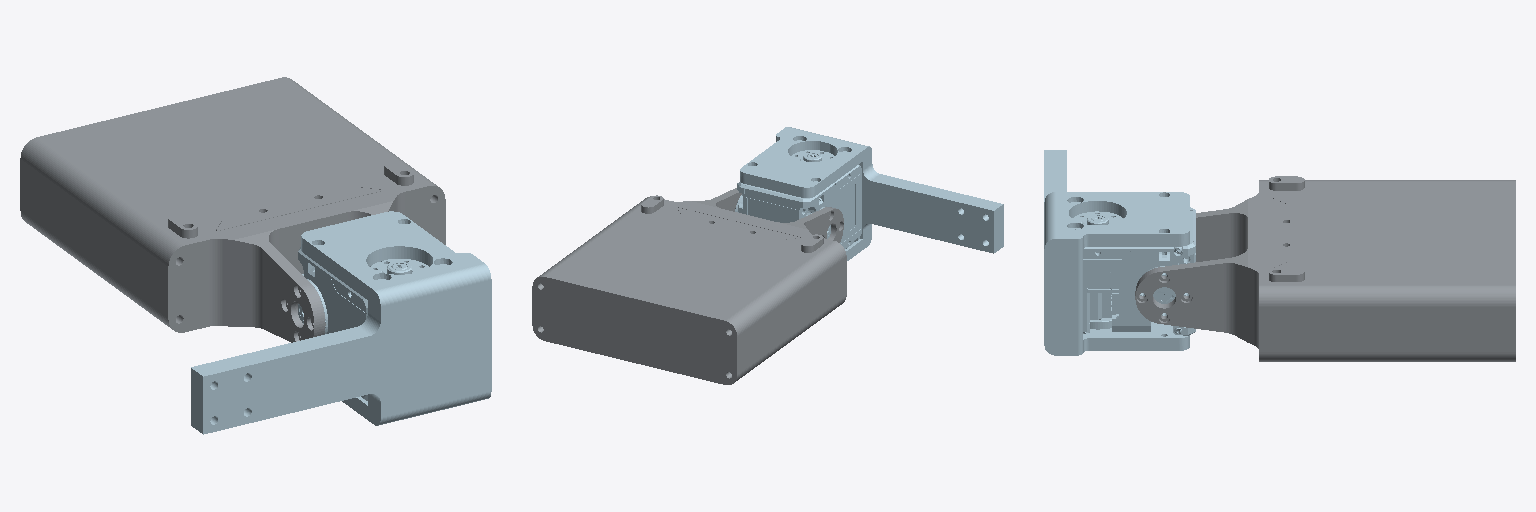
The robot description file, URDF, robot "sysID_2XL430":
<?xml version="1.0" ?>
<robot name="sysID_2XL430">
  <mujoco>
    <compiler strippath="false" balanceinertia="true" discardvisual="false"/>
  </mujoco>
  <link name="2xl430">
    <visual>
      <origin xyz="0 0 0" rpy="0 -0 0"/>
      <geometry>
        <mesh filename="../assemblies/sysID_2XL430/meshes/2xl430_visual.stl"/>
      </geometry>
      <material name="2xl430_material">
        <color rgba="0.74774239611736703637 0.8401414674150439188 0.89001491737990734432 1.0"/>
      </material>
    </visual>
    <inertial>
      <origin xyz="0.074637808447704387382 0.017802872414827662639 0.0060007862055428658546" rpy="0 0 0"/>
      <mass value="0.12784999999841853424"/>
      <inertia ixx="4.4888939210807774166e-05" ixy="-5.9504395818475997514e-06" ixz="-6.9374906701103295362e-07" iyy="4.3761239815176726313e-05" iyz="-1.7042449579308966748e-07" izz="5.7422593236642129088e-05"/>
    </inertial>
  </link>
  <link name="arm_430">
    <visual>
      <origin xyz="0 0 0" rpy="0 -0 0"/>
      <geometry>
        <mesh filename="../assemblies/sysID_2XL430/meshes/arm_430_visual.stl"/>
      </geometry>
      <material name="arm_430_material">
        <color rgba="0.63059283987567626983 0.65298952457695413898 0.67418901807298270423 1.0"/>
      </material>
    </visual>
    <inertial>
      <origin xyz="-0.07779038703199558924 1.3637865612826256597e-05 -0.018999999999999885036" rpy="0 0 0"/>
      <mass value="0.25549999999999994937"/>
      <inertia ixx="0.0002442614437637843027" ixy="-9.4015858833451833388e-08" ixz="5.2159369462844190991e-20" iyy="0.00041073874164066647872" iyz="1.4859910756754919957e-16" izz="0.00022084196523238381607"/>
    </inertial>
  </link>
  <joint name="joint_0" type="revolute">
    <origin xyz="0.057999999999999982125 0.032699858285928966317 0.0056193957935184602609" rpy="1.570796326794896558 -2.2412627309618028409e-15 -1.5707963267949029973"/>
    <parent link="2xl430"/>
    <child link="arm_430"/>
    <axis xyz="0 0 1"/>
    <limit effort="1" velocity="20" lower="-1.570796326794896558" upper="1.570796326794896558"/>
    <joint_properties friction="0.0"/>
  </joint>
</robot>

--- Render facts (derived) ---
Views: 3 orthographic renders of the robot side by side, from view 1: azimuth 30°, elevation 25°; view 2: azimuth 150°, elevation 25°; view 3: azimuth 270°, elevation 25°.
Robot: sysID_2XL430 — 2 links, 1 joints (1 revolute); root link 2xl430; default pose: all joints at 0.
Visible links, largest first — view 1: arm_430, 2xl430; view 2: arm_430, 2xl430; view 3: arm_430, 2xl430.
Link boxes in pixels (x1,y1,x2,y2): arm_430: (20,77,445,342); 2xl430: (191,211,491,434); arm_430: (532,188,846,384); 2xl430: (735,127,1003,260); arm_430: (1135,176,1515,361); 2xl430: (1044,150,1195,355).
Size in the robot's own frame: 0.132 by 0.1697 by 0.0464 metres.
Meshes: 2 distinct files referenced, 2 mesh visuals loaded (2 binary STL).